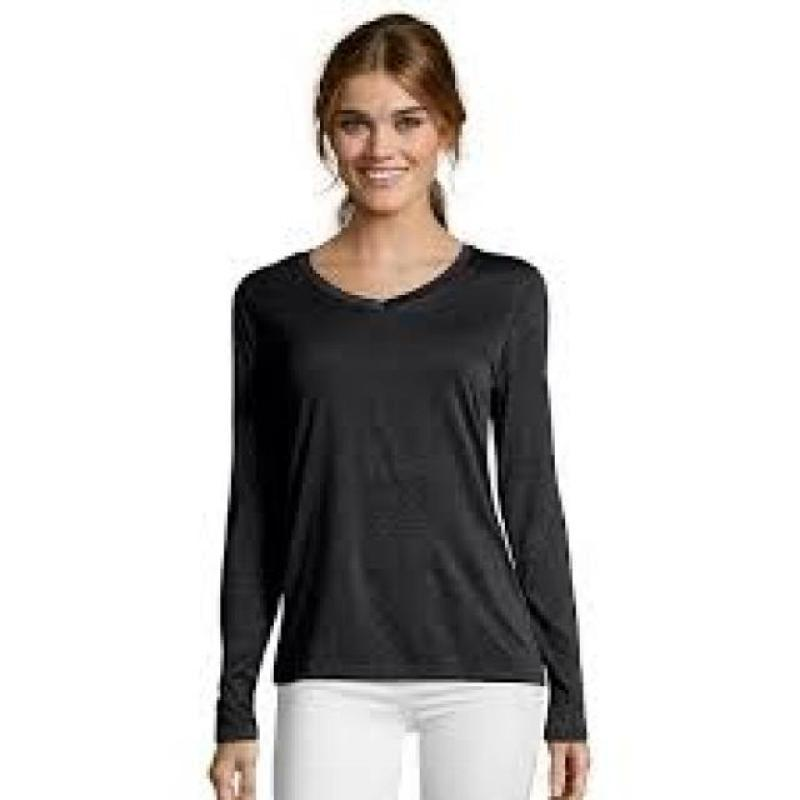long sleeve shirt: (213, 246, 590, 744)
trousers: (271, 677, 552, 800)
